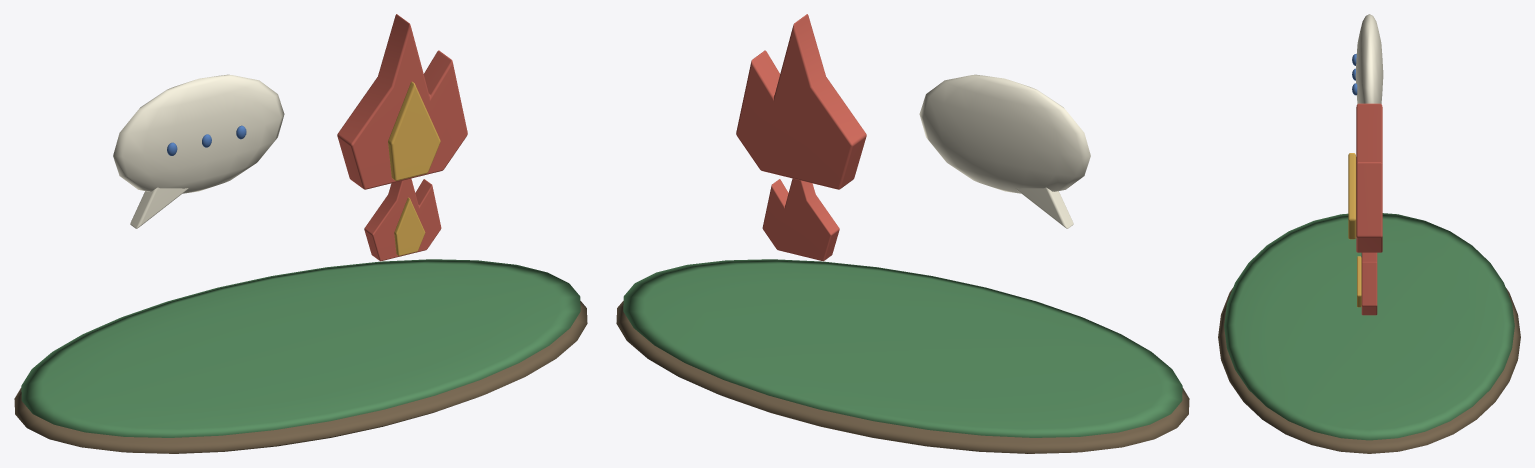
The model's file is complete-second-speech-two-flames.glb.
3 renders of one model, left to right at view 1: azimuth 30°, elevation 25°; view 2: azimuth 150°, elevation 25°; view 3: azimuth 270°, elevation 25°, orthographic. The views are drawn at different scales.
Parts seen in each view (by area): view 1: complete-second-speech-two-flames_surface_01, complete-second-speech-two-flames_surface_02, complete-second-speech-two-flames_surface_04, complete-second-speech-two-flames_surface_00, complete-second-speech-two-flames_surface_05; view 2: complete-second-speech-two-flames_surface_01, complete-second-speech-two-flames_surface_04, complete-second-speech-two-flames_surface_02, complete-second-speech-two-flames_surface_00; view 3: complete-second-speech-two-flames_surface_01, complete-second-speech-two-flames_surface_00, complete-second-speech-two-flames_surface_04, complete-second-speech-two-flames_surface_02, complete-second-speech-two-flames_surface_05.
Part boxes in pixels (box(x1,y1,x2,y2)): complete-second-speech-two-flames_surface_01: box(21, 259, 580, 437); complete-second-speech-two-flames_surface_02: box(113, 74, 284, 228); complete-second-speech-two-flames_surface_04: box(337, 14, 467, 261); complete-second-speech-two-flames_surface_00: box(14, 301, 587, 453); complete-second-speech-two-flames_surface_05: box(388, 81, 440, 255); complete-second-speech-two-flames_surface_01: box(623, 259, 1182, 437); complete-second-speech-two-flames_surface_04: box(736, 14, 866, 261); complete-second-speech-two-flames_surface_02: box(919, 74, 1090, 228); complete-second-speech-two-flames_surface_00: box(616, 301, 1189, 453); complete-second-speech-two-flames_surface_01: box(1224, 213, 1514, 440); complete-second-speech-two-flames_surface_00: box(1218, 288, 1520, 453); complete-second-speech-two-flames_surface_04: box(1356, 103, 1382, 315); complete-second-speech-two-flames_surface_02: box(1355, 14, 1383, 103); complete-second-speech-two-flames_surface_05: box(1348, 153, 1361, 307).
Size of the model in its own units: 4.56 by 2.65 by 2.5.
